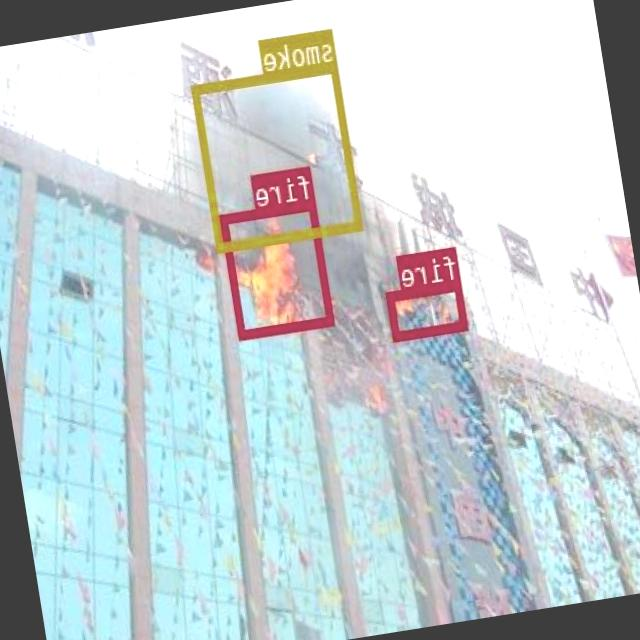fire: (222, 198, 336, 338), (388, 279, 470, 340)
smoke: (192, 60, 365, 252)
